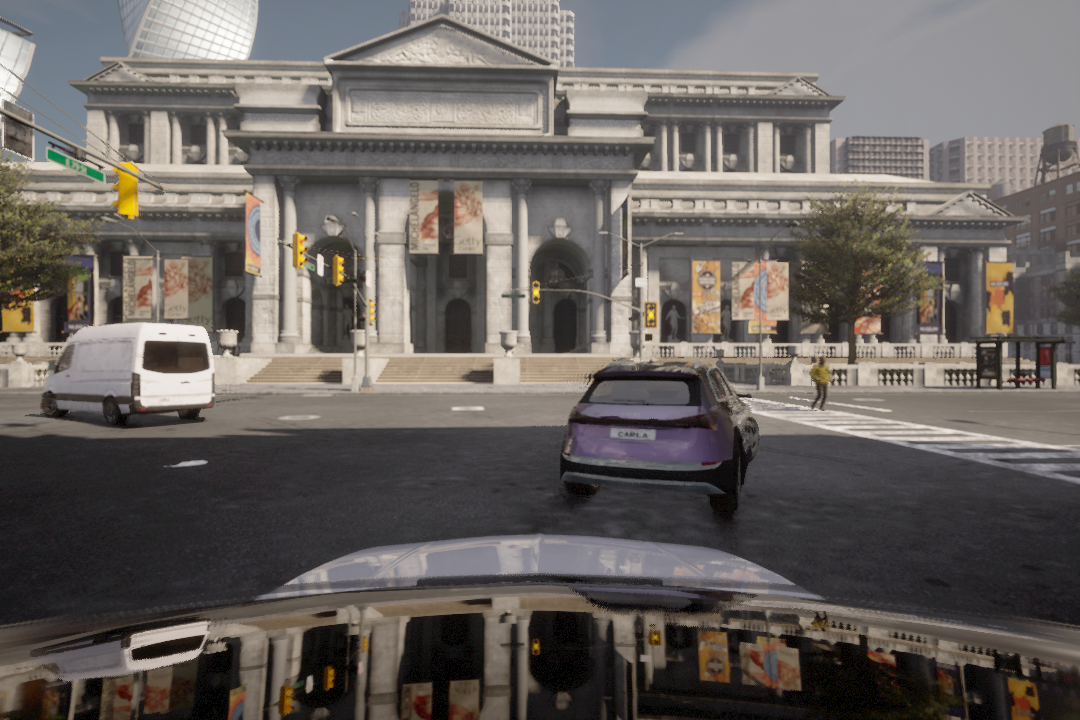TrafficLight: (289, 231, 307, 269), (329, 254, 346, 288), (645, 304, 660, 329), (531, 281, 541, 304)
walkside: (721, 394, 1080, 493)
